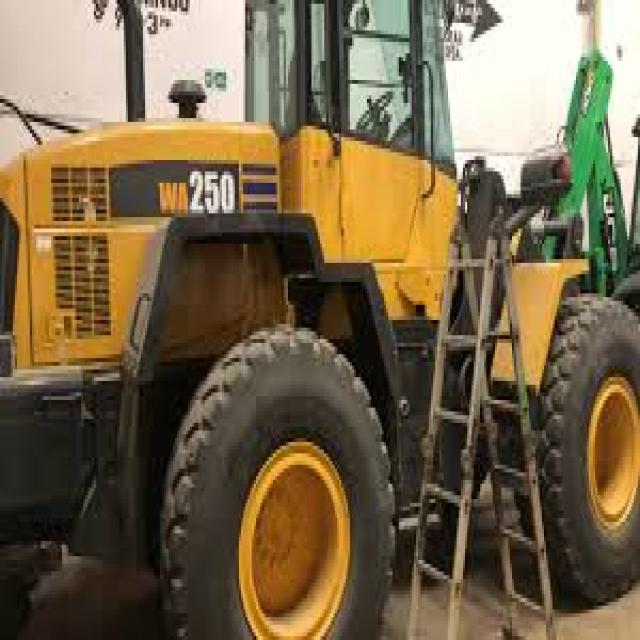buldozerpayloadergrader: (0, 4, 640, 640)
